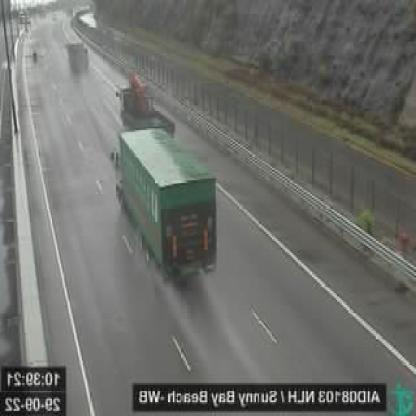Truck: (109, 128, 217, 293), (113, 74, 177, 144)
